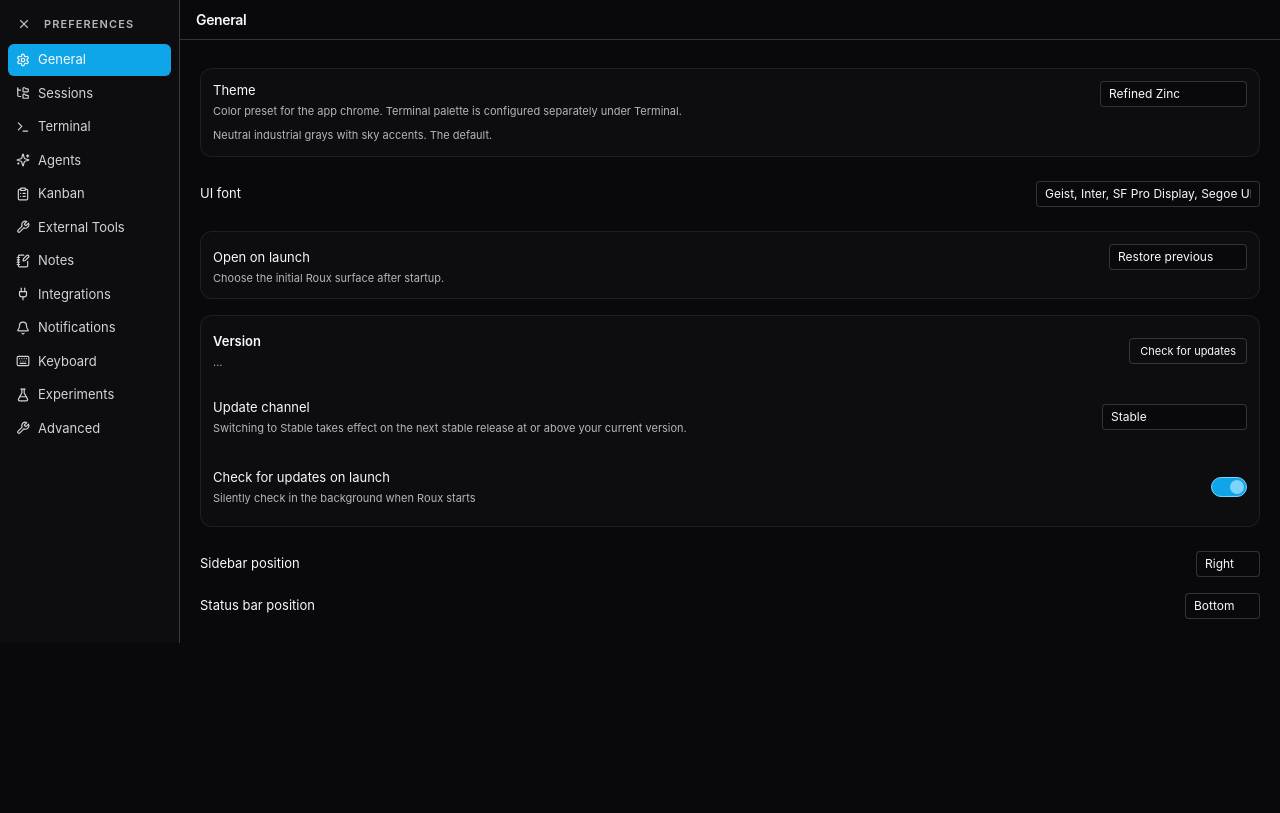
Test: SettingsPanel Kanban tab › browses to a Kanban workflow JSON file and validates it
What coordinates should you click on to do the following:
click the button "Kanban"
I would click on:
 (90, 194)
Its box is [8,178,171,210].
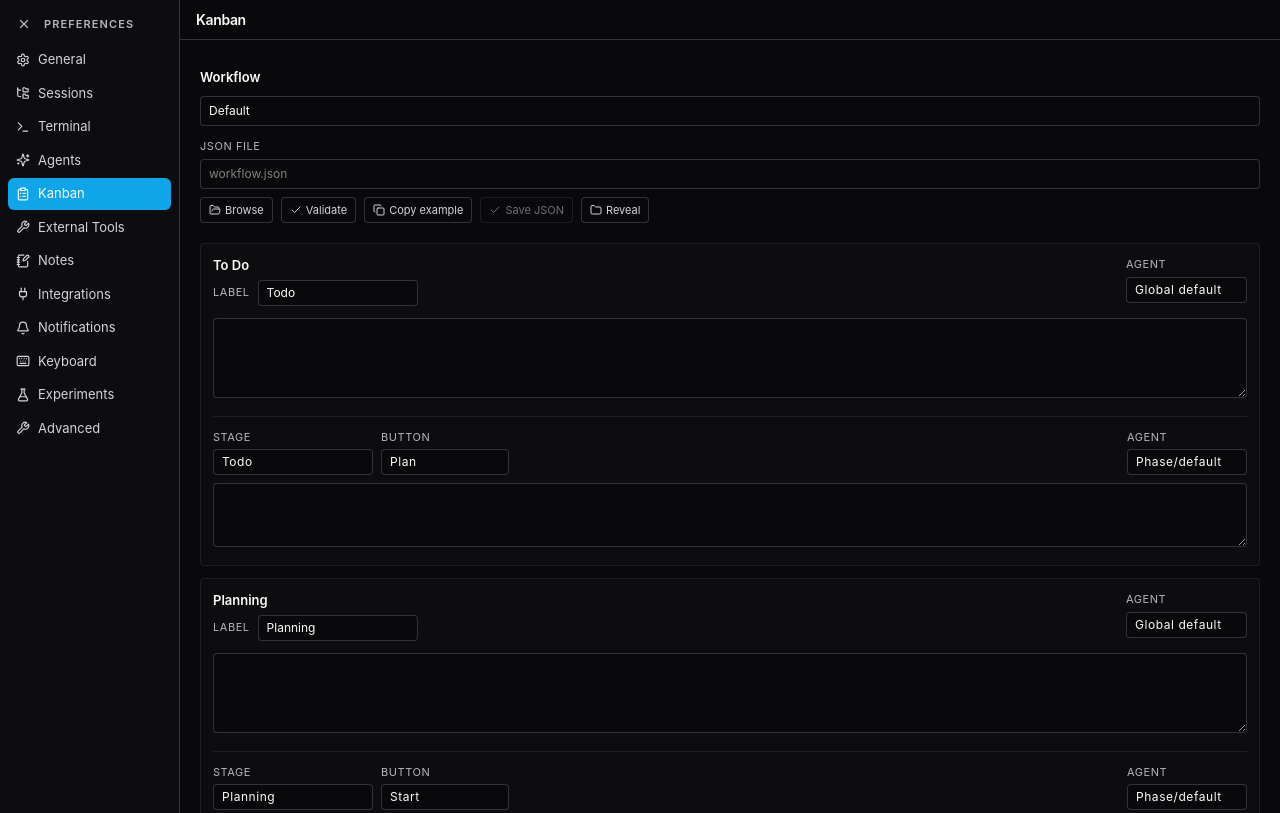
What coordinates should you click on to do the following:
click the button "Browse"
I would click on:
 (236, 210)
Its box is [200,196,273,223].
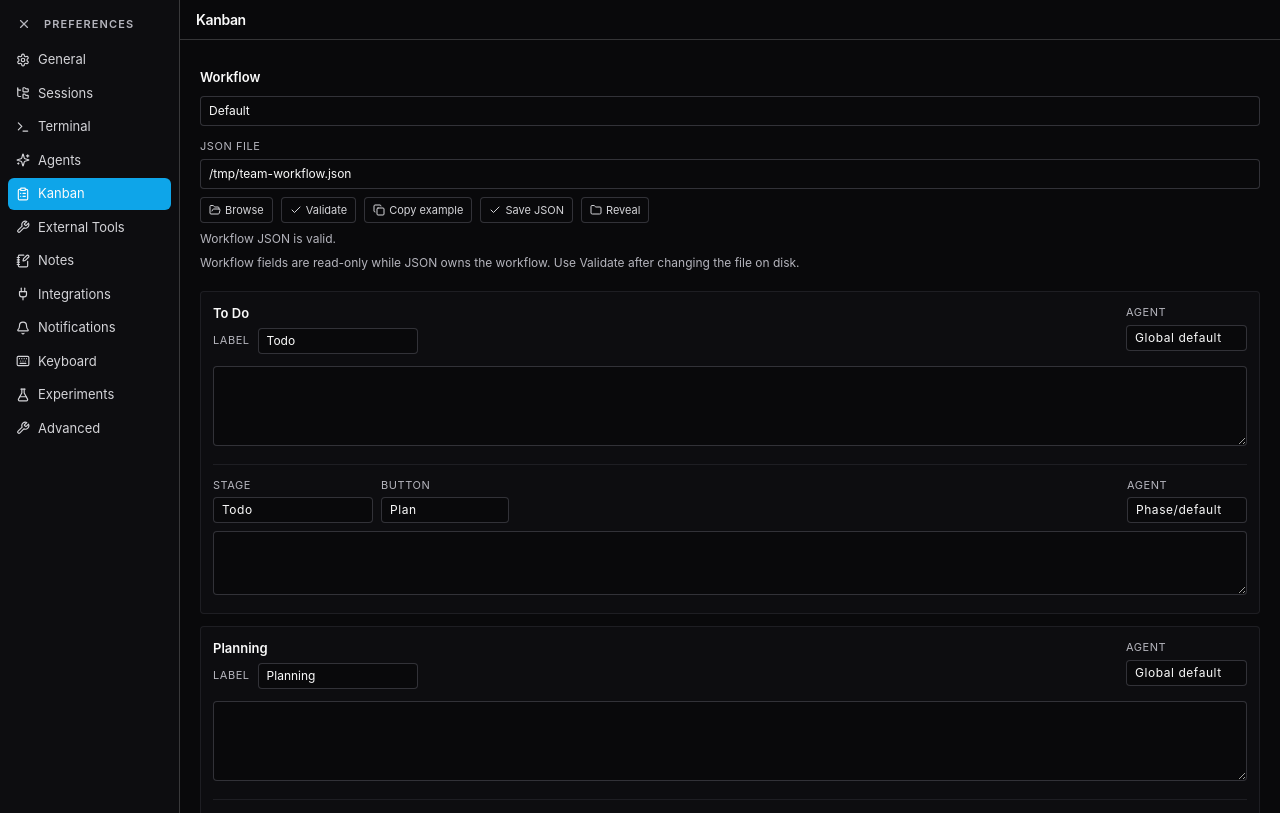
expect the field named "Workflow JSON file" holds "/tmp/team-workflow.json": met, box [200,158,1260,188]
